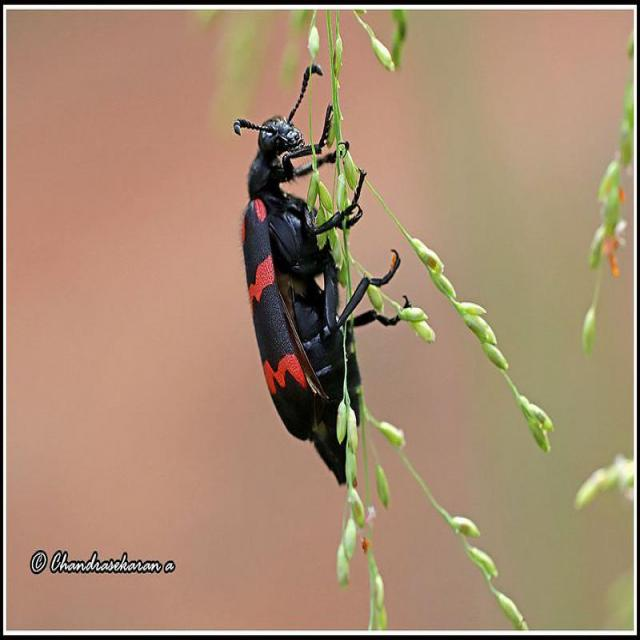BlisterBeetle-Adult-: (232, 63, 414, 488)
